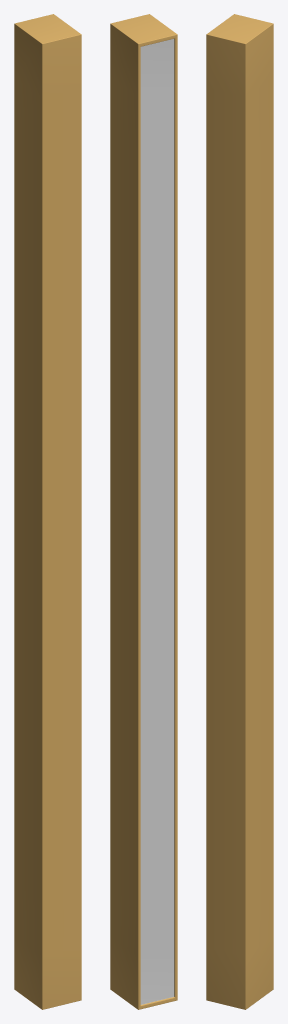
Rendered from SCOREMUL.fbx.
The picture shows the model from 3 angles, left to right: view 1: azimuth 30°, elevation 25°; view 2: azimuth 210°, elevation 25°; view 3: azimuth 330°, elevation 25°; orthographic projection.
Parts seen in each view (by area): view 1: Cube.087; view 2: Cube.087; view 3: Cube.087.
Boxes of the visible parts, left/top/right/bottom form: Cube.087: left=14, top=14, right=81, bottom=1009; Cube.087: left=110, top=14, right=177, bottom=1009; Cube.087: left=206, top=14, right=273, bottom=1009.
Size of the model in its own units: 1.52 by 35.6 by 1.87.
